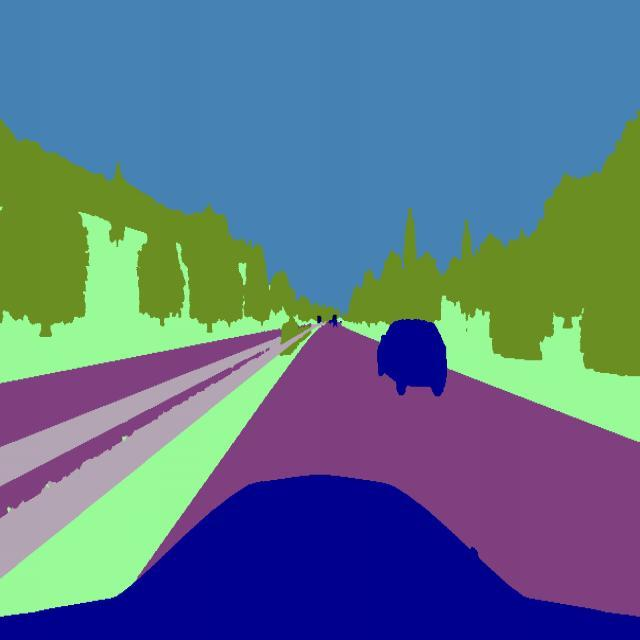safe: (374, 314, 453, 404)
